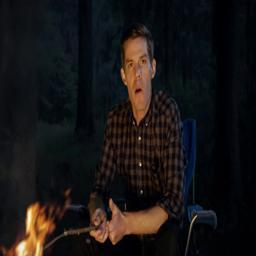fire: (1, 202, 57, 256)
